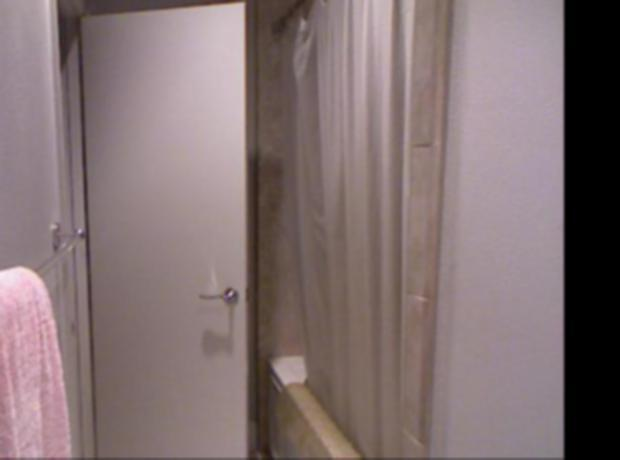Ducha: (270, 6, 435, 456)
